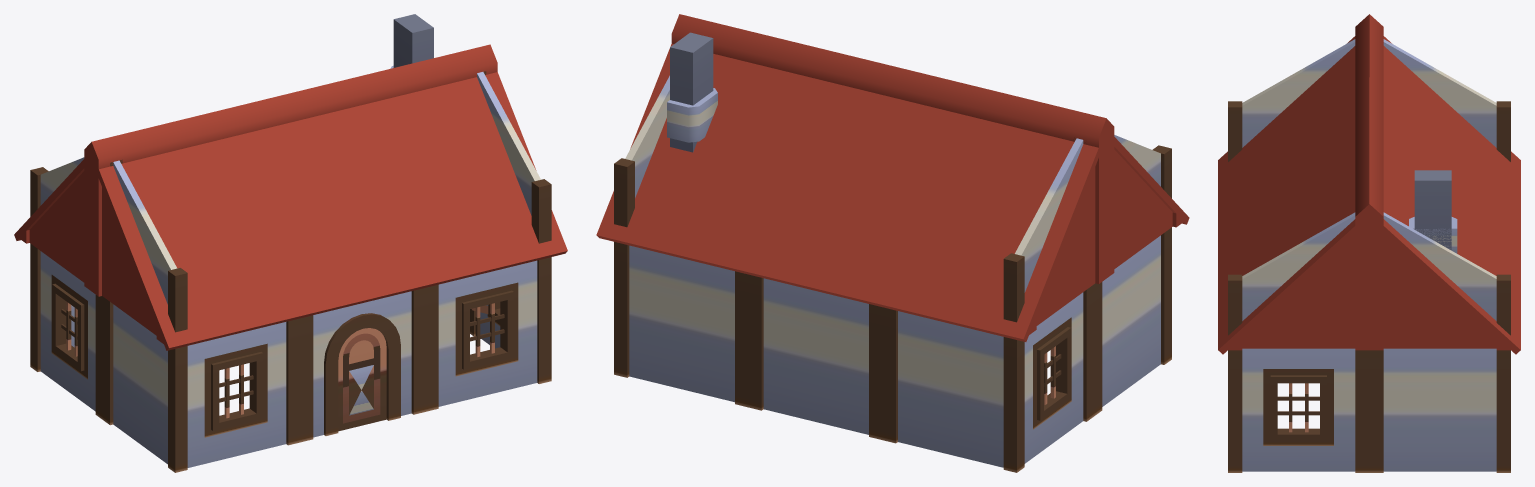
The model's file is chaumiere-1.glb.
3 views of the same model, side by side, from view 1: azimuth 30°, elevation 25°; view 2: azimuth 150°, elevation 25°; view 3: azimuth 270°, elevation 25° (orthographic). The views are drawn at different scales.
Parts seen in each view (by area): view 1: roof-high, wall-window-shutters; view 2: roof-high, wall-window-shutters; view 3: roof-high, wall-window-shutters.
Part boxes in pixels (x1,y1,x2,y2): roof-high: [14, 44, 567, 350]; wall-window-shutters: [30, 14, 551, 472]; roof-high: [596, 14, 1189, 341]; wall-window-shutters: [614, 32, 1171, 472]; roof-high: [1218, 14, 1520, 354]; wall-window-shutters: [1228, 39, 1510, 472].
Size of the model in its own units: 9.54 by 6.6 by 6.42.
2 materials, 1 textured.
